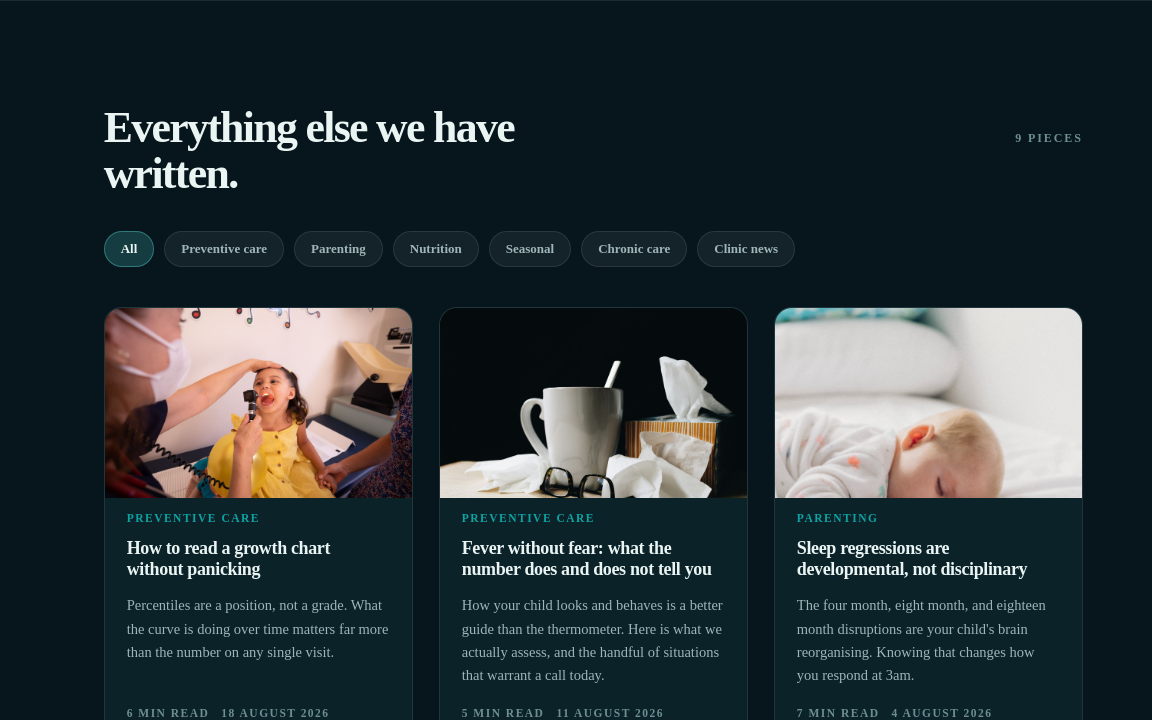
Test: JournalGrid › restores every article when All is selected
Click the button "Nutrition": click(436, 249) [393, 231, 479, 267]
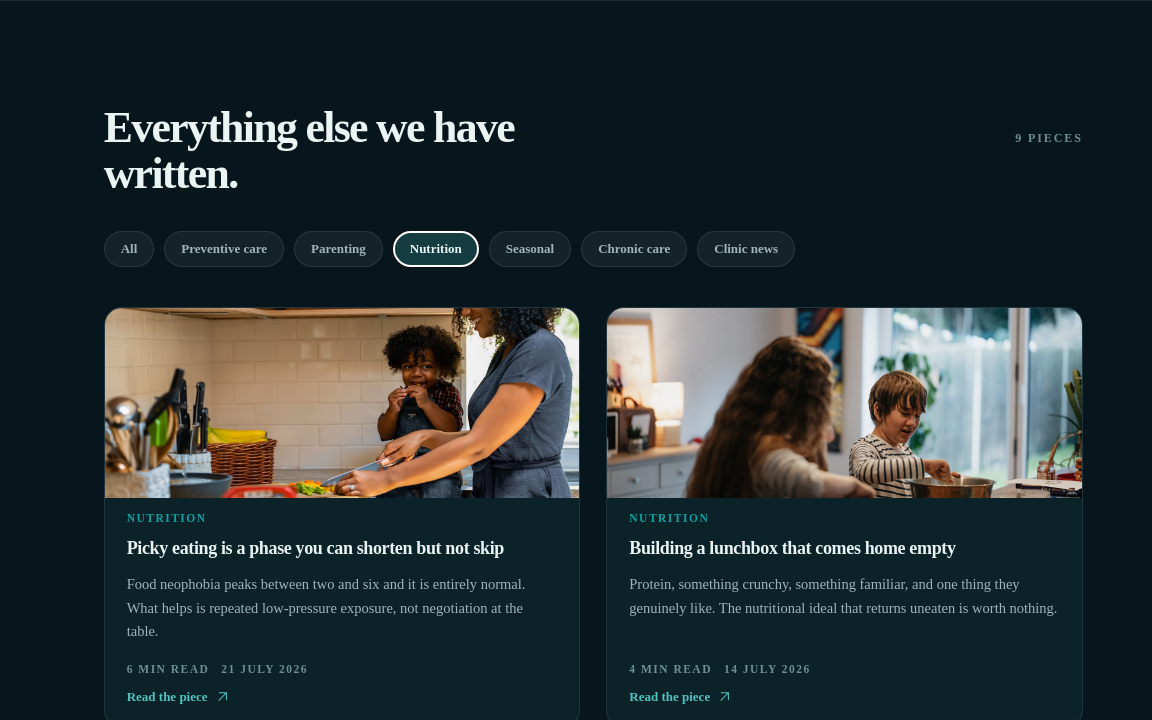
Click the button "All": click(129, 249) [104, 231, 154, 267]
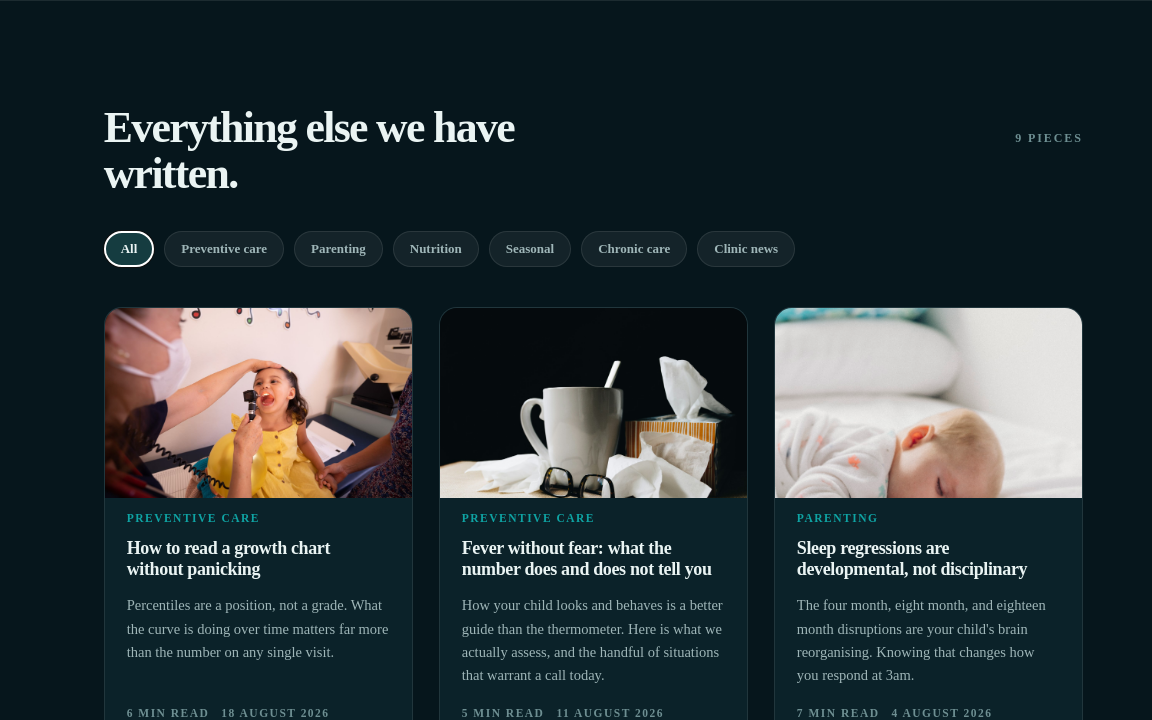
Now the number of links is 9
